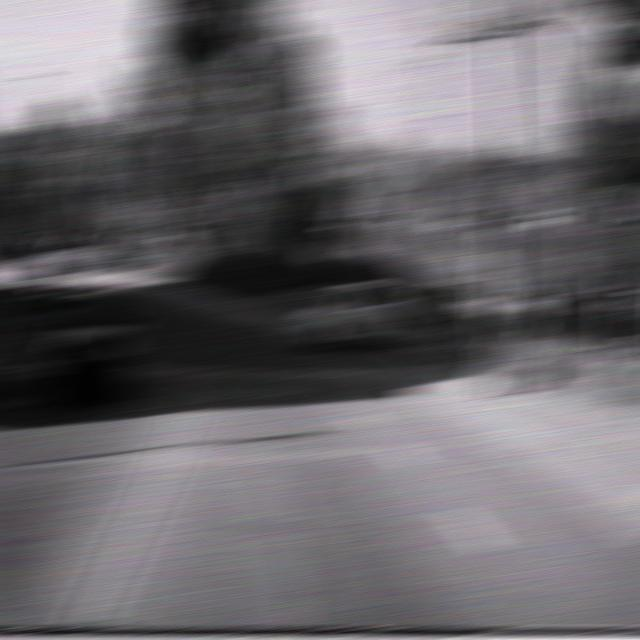pedestrianCrossing: (6, 218, 34, 241)
stop: (449, 158, 494, 216)
